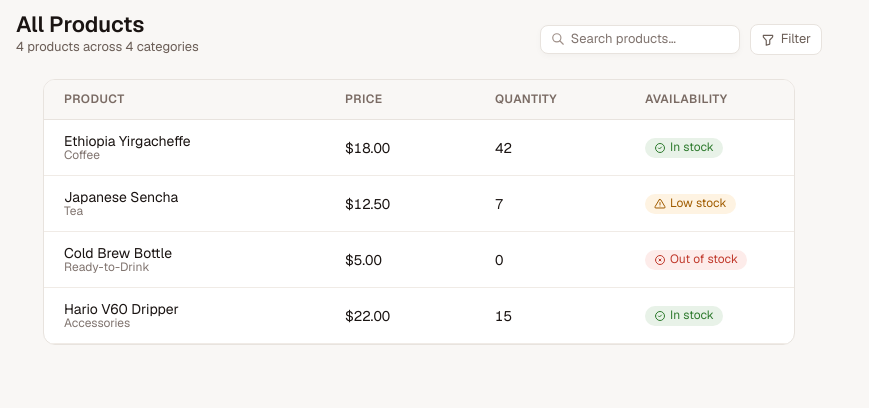
Test: Products › filter button › sets aria-expanded to true on the filter button when the dropdown is open
The image size is (869, 408).
Click the button with aria-label "filter products" at (786,40), box [750,24,822,55]
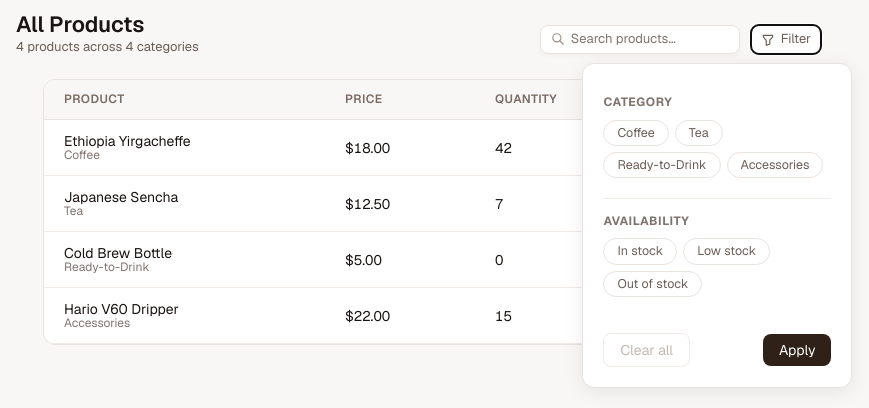
Expected: the button with aria-label "filter products" is expanded, [750,24,822,55]
